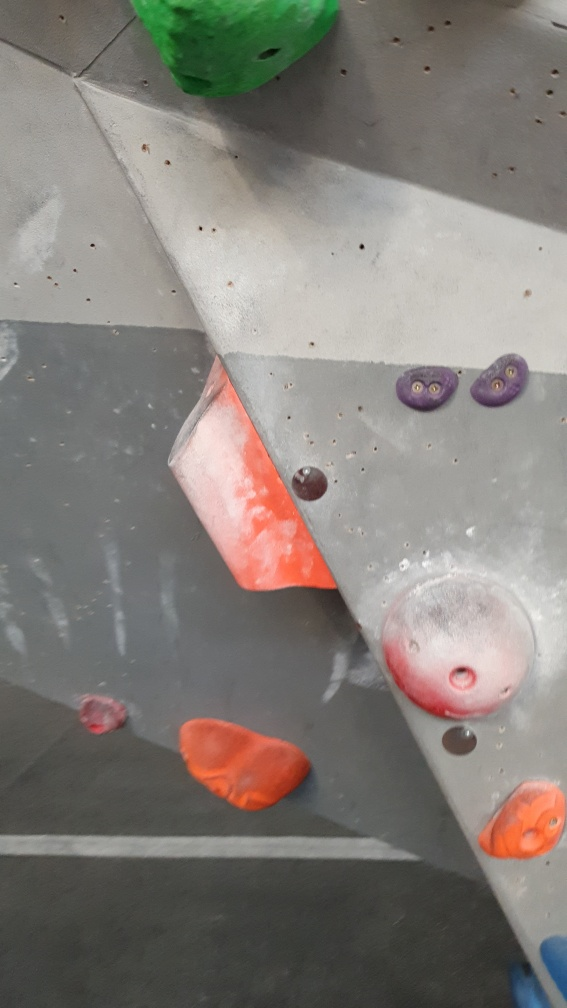Hand Start: (288, 464, 331, 502), (441, 727, 479, 758)
Pinch: (163, 352, 341, 600)
Sloper: (384, 568, 540, 724)
